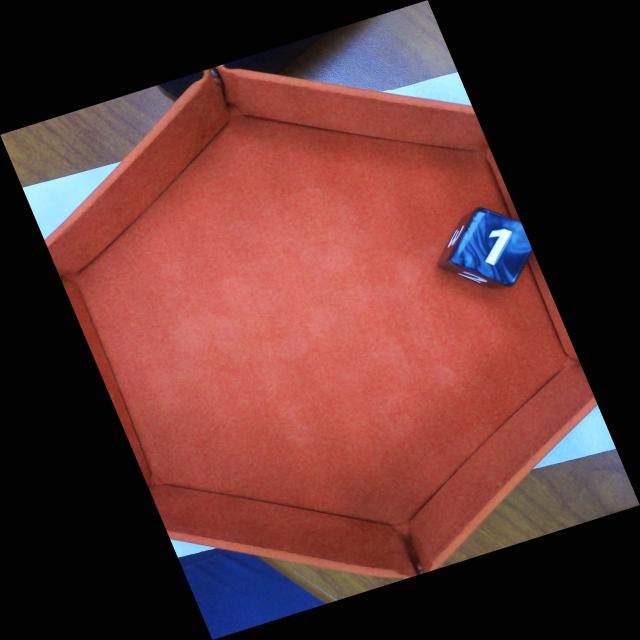dice: (450, 208, 542, 287)
